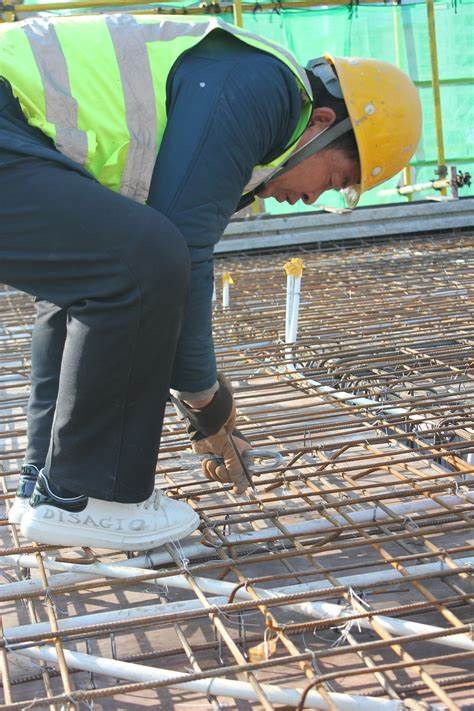safetyhat: (1, 1, 431, 443)
